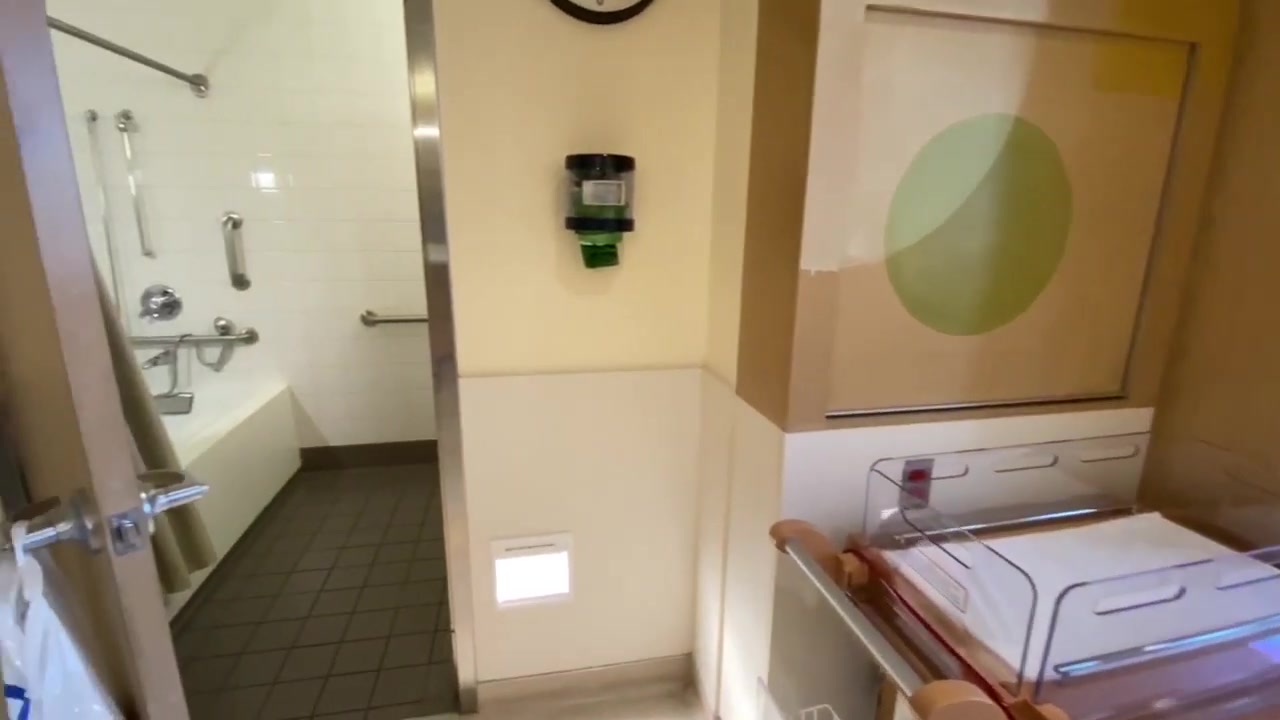curtain: (121, 358, 220, 594)
door_handle: (136, 460, 212, 523), (8, 492, 69, 564)
faucet: (139, 276, 183, 322), (138, 346, 177, 378)
restroom_assist_bar: (112, 108, 155, 257), (110, 327, 264, 346), (221, 210, 253, 291), (359, 310, 428, 328)
